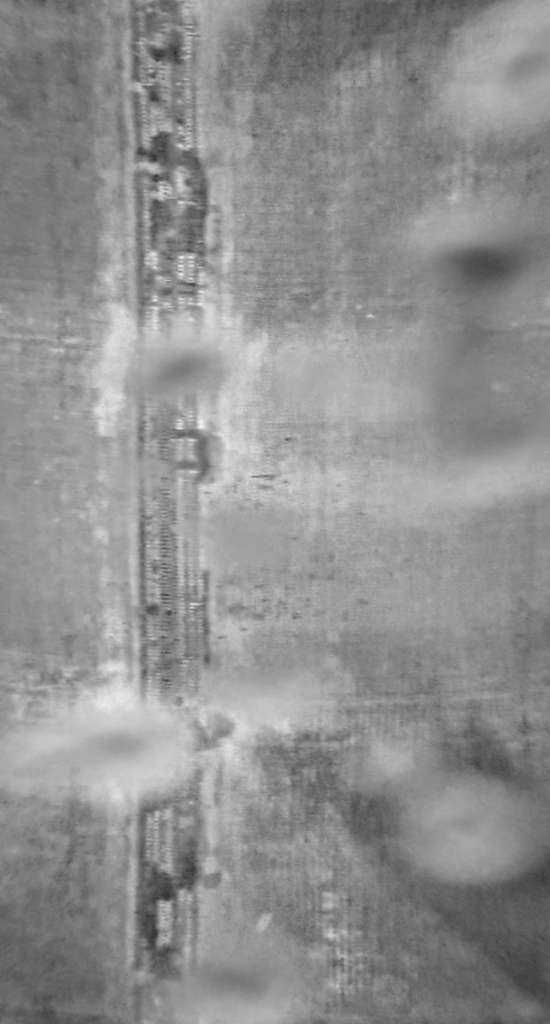splice: (112, 1, 217, 1024)
